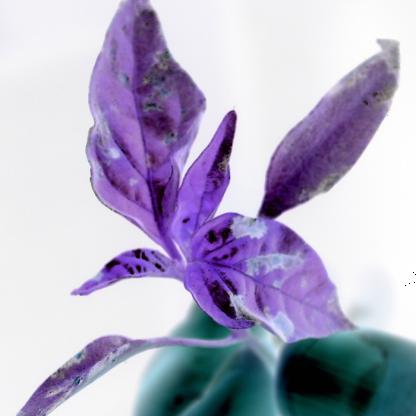bell pepper leaf spot: (71, 4, 212, 242), (175, 214, 368, 356), (15, 324, 159, 415)
